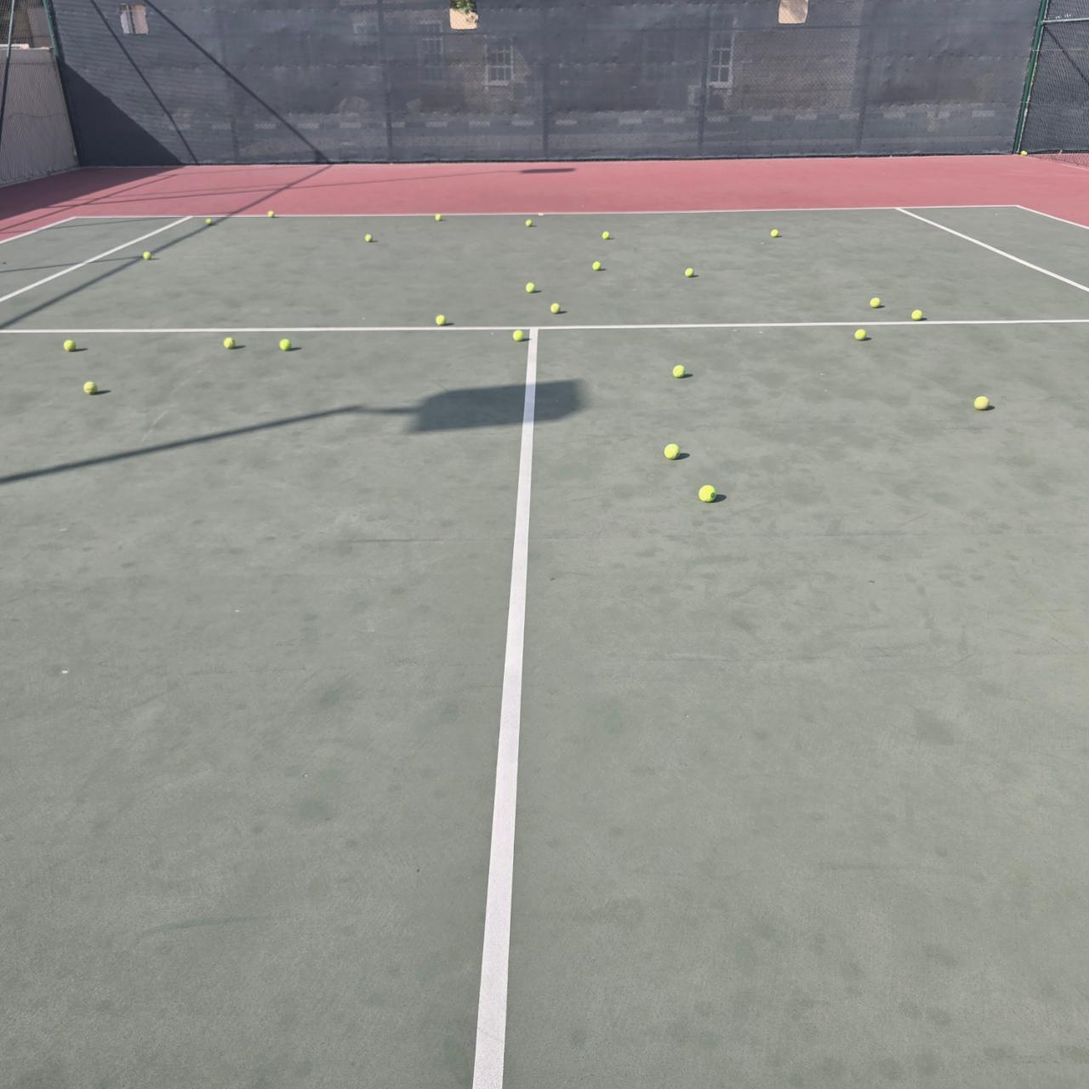tennis-ball: (698, 483, 717, 502), (664, 441, 681, 459), (973, 395, 990, 410), (83, 381, 98, 395), (672, 364, 687, 378), (279, 338, 292, 352), (63, 339, 76, 352), (911, 308, 923, 321), (222, 337, 235, 349), (854, 329, 867, 340), (869, 297, 881, 308), (513, 329, 524, 341), (550, 302, 561, 314), (435, 314, 446, 326), (526, 281, 536, 293), (684, 267, 694, 278), (592, 261, 601, 271), (143, 250, 152, 260), (364, 233, 373, 243), (770, 228, 779, 238), (525, 218, 533, 228), (434, 212, 442, 222), (602, 231, 610, 240), (267, 210, 275, 218), (205, 217, 212, 226), (1021, 150, 1028, 156)
